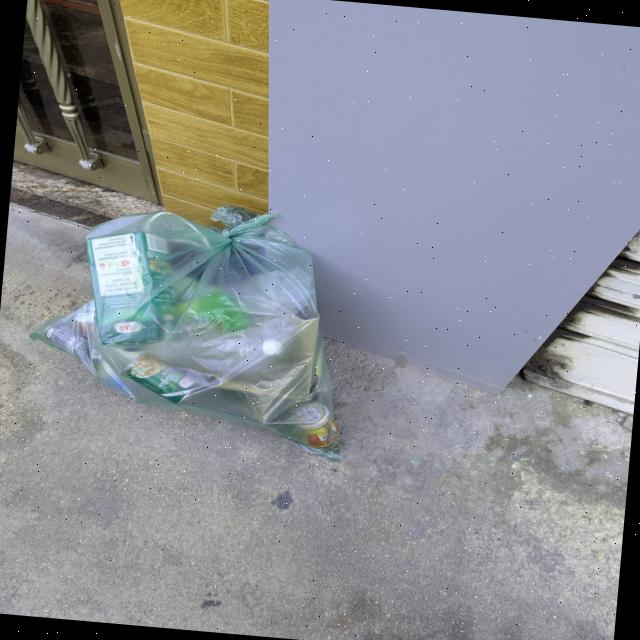Recyclable Material: (21, 187, 363, 463)
